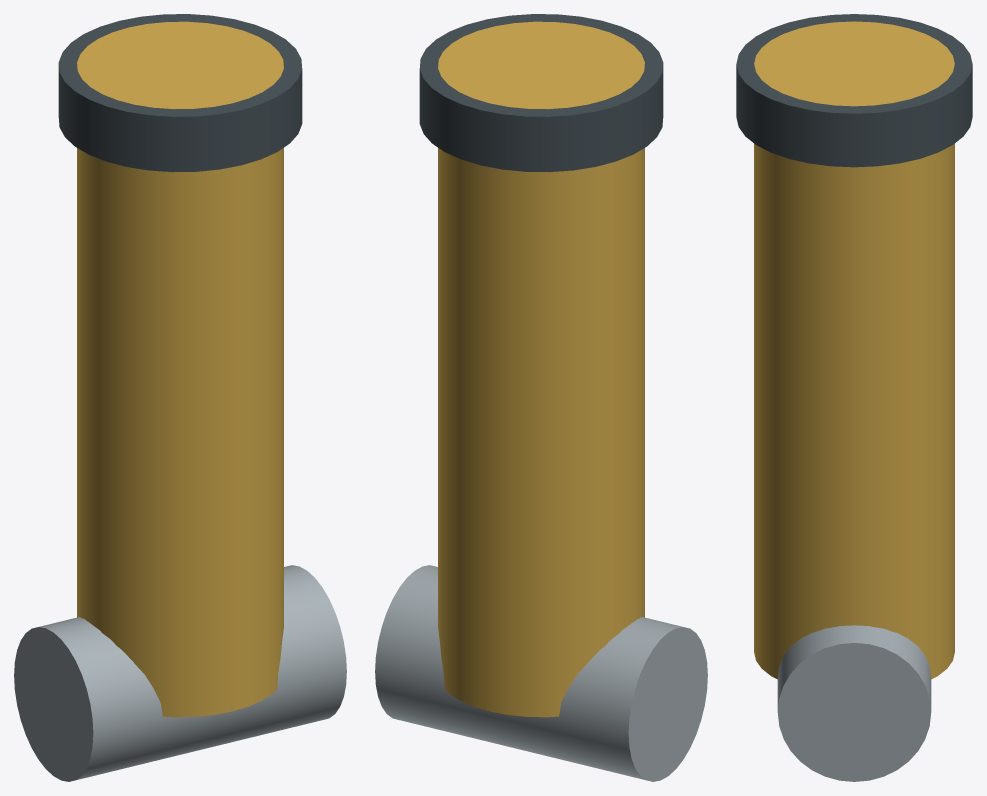
File: grab_actuator_barrel.glb
The picture shows the model from 3 angles, left to right: view 1: azimuth 30°, elevation 25°; view 2: azimuth 150°, elevation 25°; view 3: azimuth 270°, elevation 25°; orthographic projection. The views are drawn at different scales.
Visible parts, largest first — view 1: grab_actuator_barrel; view 2: grab_actuator_barrel; view 3: grab_actuator_barrel.
Boxes of the visible parts, box(x1,y1,x2,y2) form: grab_actuator_barrel: box(14, 14, 346, 781); grab_actuator_barrel: box(375, 14, 707, 781); grab_actuator_barrel: box(736, 14, 972, 781).
Bounding box in the file's own units: 0.24 × 0.615 × 0.2.
